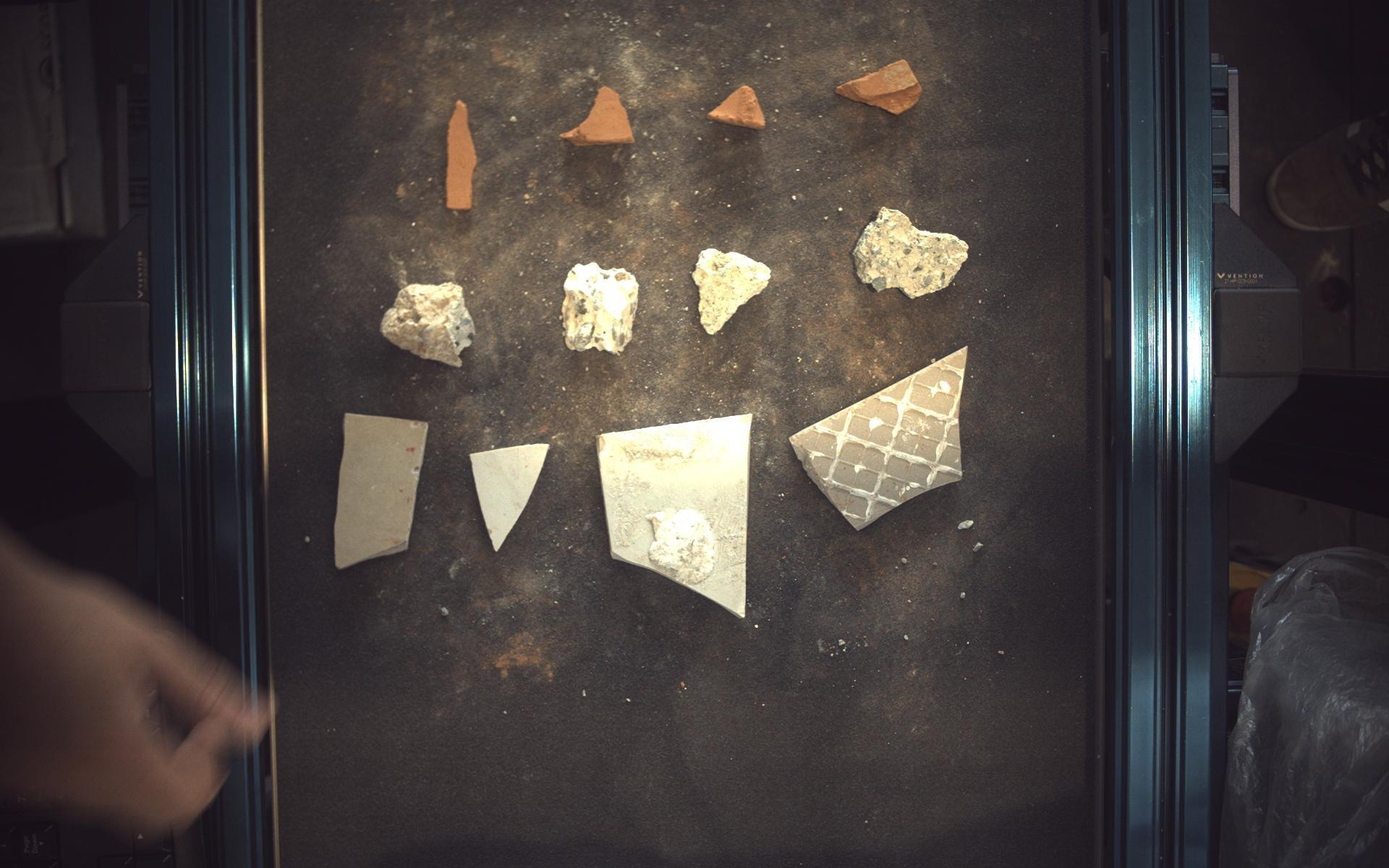brick: (838, 58, 924, 114), (561, 85, 634, 145), (446, 99, 477, 209), (709, 84, 767, 128)
concrete: (854, 207, 970, 298), (382, 282, 475, 367), (562, 262, 639, 354), (693, 247, 773, 334)
tile: (791, 348, 969, 529), (599, 415, 753, 618), (334, 414, 428, 569), (470, 443, 550, 552)
